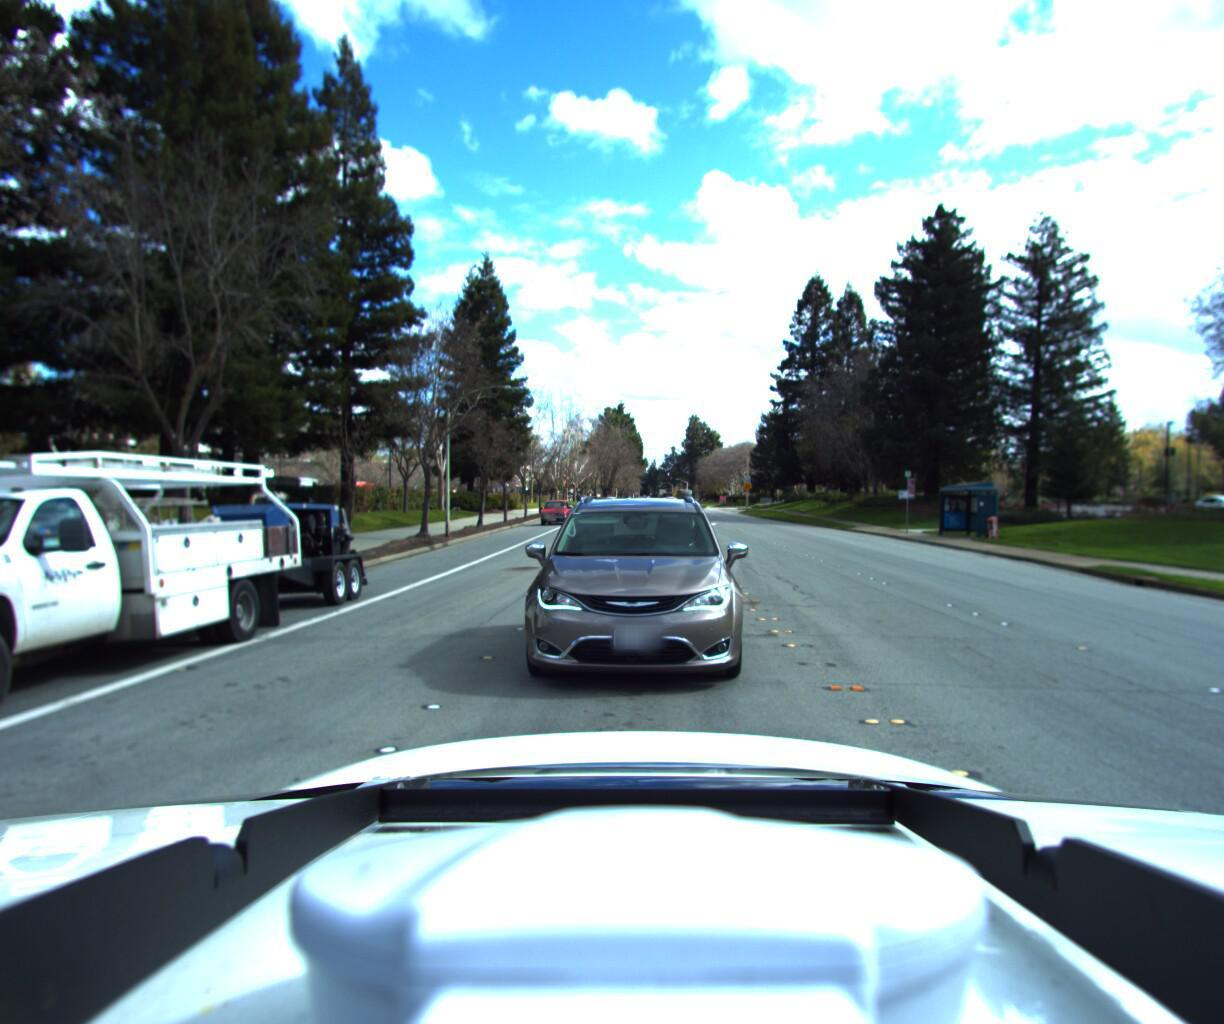car: (512, 468, 760, 696), (536, 508, 575, 533)
truck: (0, 414, 406, 793)
